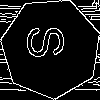S: (26, 23, 74, 61)
